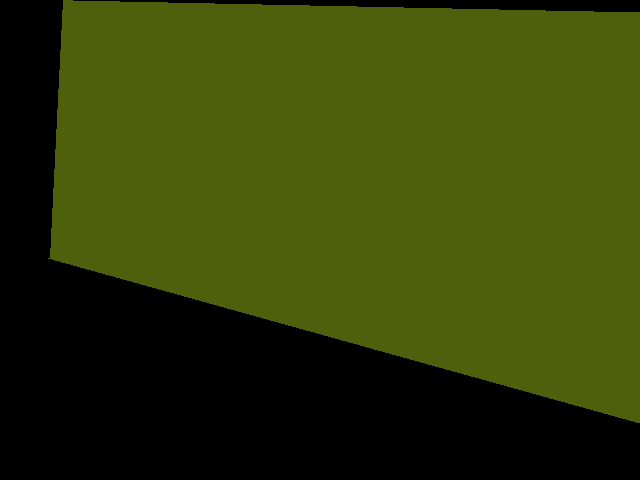Train: (48, 0, 640, 423)
